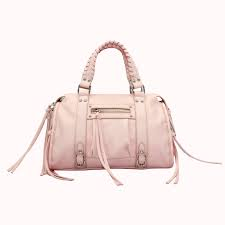bag: (13, 53, 191, 187)
